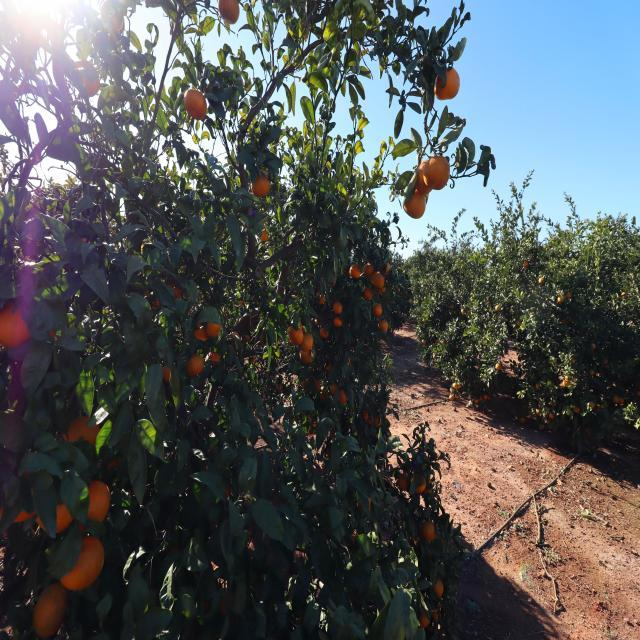Jeruk Sudah Matang: (60, 536, 106, 590), (62, 412, 104, 458), (0, 292, 30, 356), (31, 581, 66, 628), (434, 63, 460, 100), (183, 88, 209, 122), (413, 162, 438, 196), (80, 64, 102, 102), (424, 156, 449, 189), (402, 187, 426, 218), (218, 0, 242, 30), (250, 176, 272, 198), (187, 356, 206, 378), (429, 576, 446, 598), (204, 320, 223, 339), (206, 349, 224, 369), (412, 474, 428, 496), (300, 347, 316, 368), (298, 334, 316, 352), (162, 364, 176, 384), (373, 272, 388, 290), (288, 328, 304, 344), (256, 228, 270, 246), (314, 290, 328, 308), (377, 320, 392, 336), (418, 610, 431, 628), (424, 524, 436, 542), (432, 608, 444, 626), (336, 388, 348, 406), (370, 306, 385, 320), (170, 286, 183, 302), (398, 473, 408, 492), (350, 262, 360, 280), (363, 287, 375, 302), (364, 262, 374, 278), (333, 300, 343, 314), (333, 316, 343, 329), (320, 326, 329, 340)
